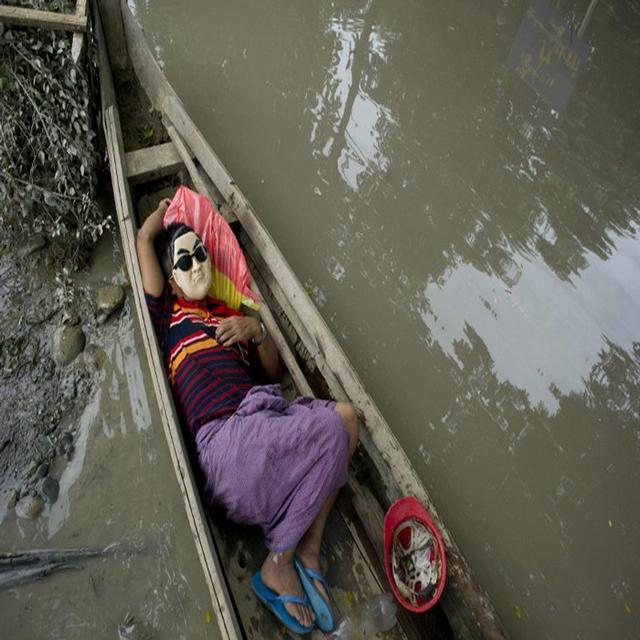Person-RiskLevel1: (129, 183, 374, 636)
